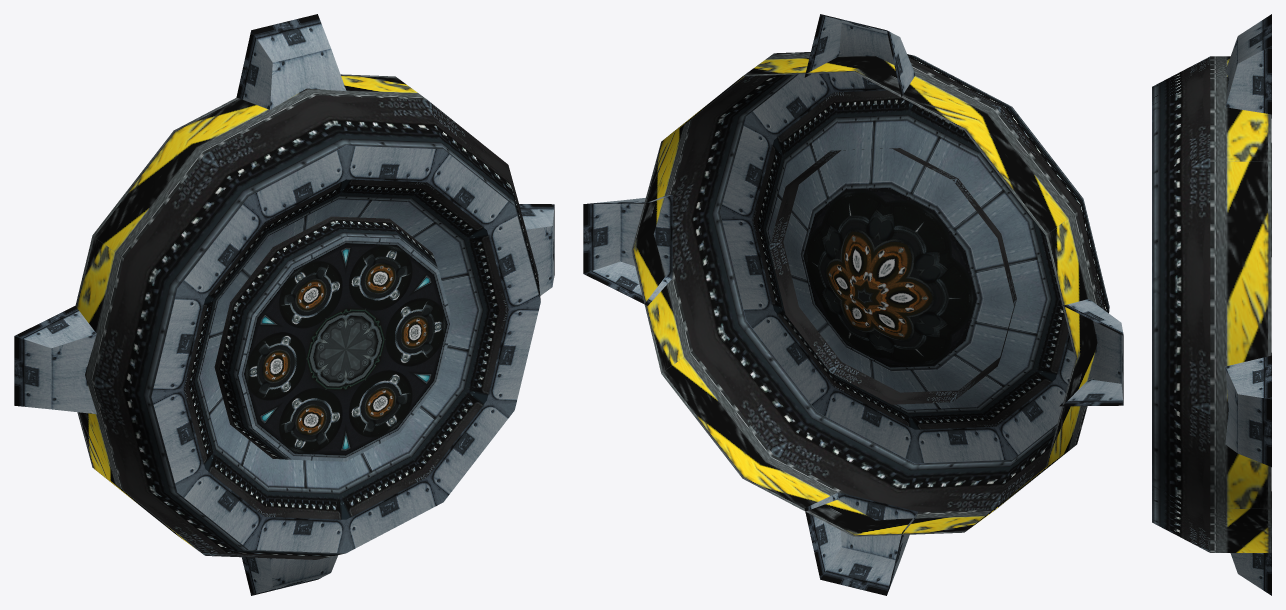
The model's file is Battery_wall_fixture_01.FBX.
The picture shows the model from 3 angles, left to right: view 1: azimuth 30°, elevation 25°; view 2: azimuth 150°, elevation 25°; view 3: azimuth 270°, elevation 25°; orthographic projection. The views are drawn at different scales.
Visible parts, largest first — view 1: Battery_wall_fixture_01; view 2: Battery_wall_fixture_01; view 3: Battery_wall_fixture_01.
Boxes of the visible parts, box(x1,y1,x2,y2) form: Battery_wall_fixture_01: box(14, 14, 554, 595); Battery_wall_fixture_01: box(583, 14, 1123, 595); Battery_wall_fixture_01: box(1152, 14, 1271, 595).
Bounding box in the file's own units: 433 × 433 × 85.36.
